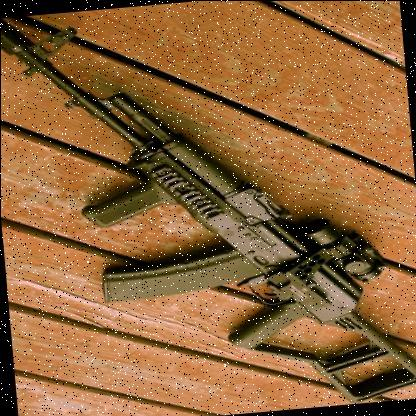rifle: (0, 0, 416, 397)
